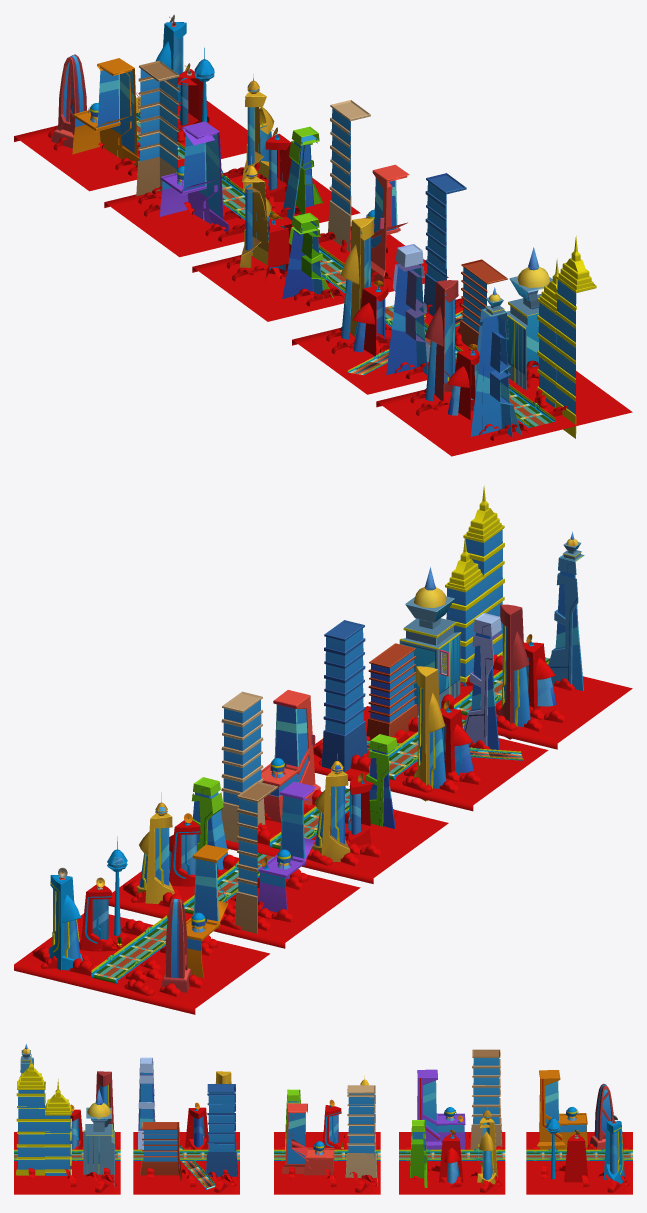
The model's file is Metropoliton_New.fbx.
3 renders of one model, top to bottom at view 1: azimuth 30°, elevation 25°; view 2: azimuth 150°, elevation 25°; view 3: azimuth 270°, elevation 25°, orthographic. The views are drawn at different scales.
Parts seen in each view (by area): view 1: patch_05, patch_02, patch_04, patch_03, Patch_01, road5, road2, road3; view 2: patch_04, patch_05, patch_03, patch_02, Patch_01, Road1, road2, road4; view 3: patch_05, patch_02, patch_04, patch_03, Patch_01, Road1, road2, road4, road3, road5.
Part boxes in pixels (box(x1,y1,x2,y2)): patch_05: box(376, 235, 632, 456); patch_02: box(104, 60, 360, 257); patch_04: box(292, 173, 507, 394); patch_03: box(192, 100, 448, 321); Patch_01: box(14, 14, 247, 191); road5: box(509, 384, 555, 427); road2: box(221, 174, 282, 219); road3: box(318, 245, 371, 292); patch_04: box(313, 613, 548, 811); patch_05: box(399, 485, 632, 749); patch_03: box(221, 690, 448, 883); patch_02: box(108, 777, 360, 948); Patch_01: box(14, 836, 269, 1014); Road1: box(91, 915, 167, 983); road2: box(183, 853, 273, 914); road4: box(369, 719, 465, 780); patch_05: box(14, 1044, 120, 1194); patch_02: box(399, 1049, 505, 1194); patch_04: box(133, 1057, 239, 1194); patch_03: box(274, 1075, 380, 1194); Patch_01: box(526, 1070, 632, 1194); Road1: box(526, 1149, 632, 1160); road2: box(399, 1149, 505, 1160); road4: box(133, 1149, 239, 1160); road3: box(274, 1149, 380, 1160); road5: box(14, 1149, 120, 1160).
Bounding box in the file's own units: 2459 × 2491 × 10280.
